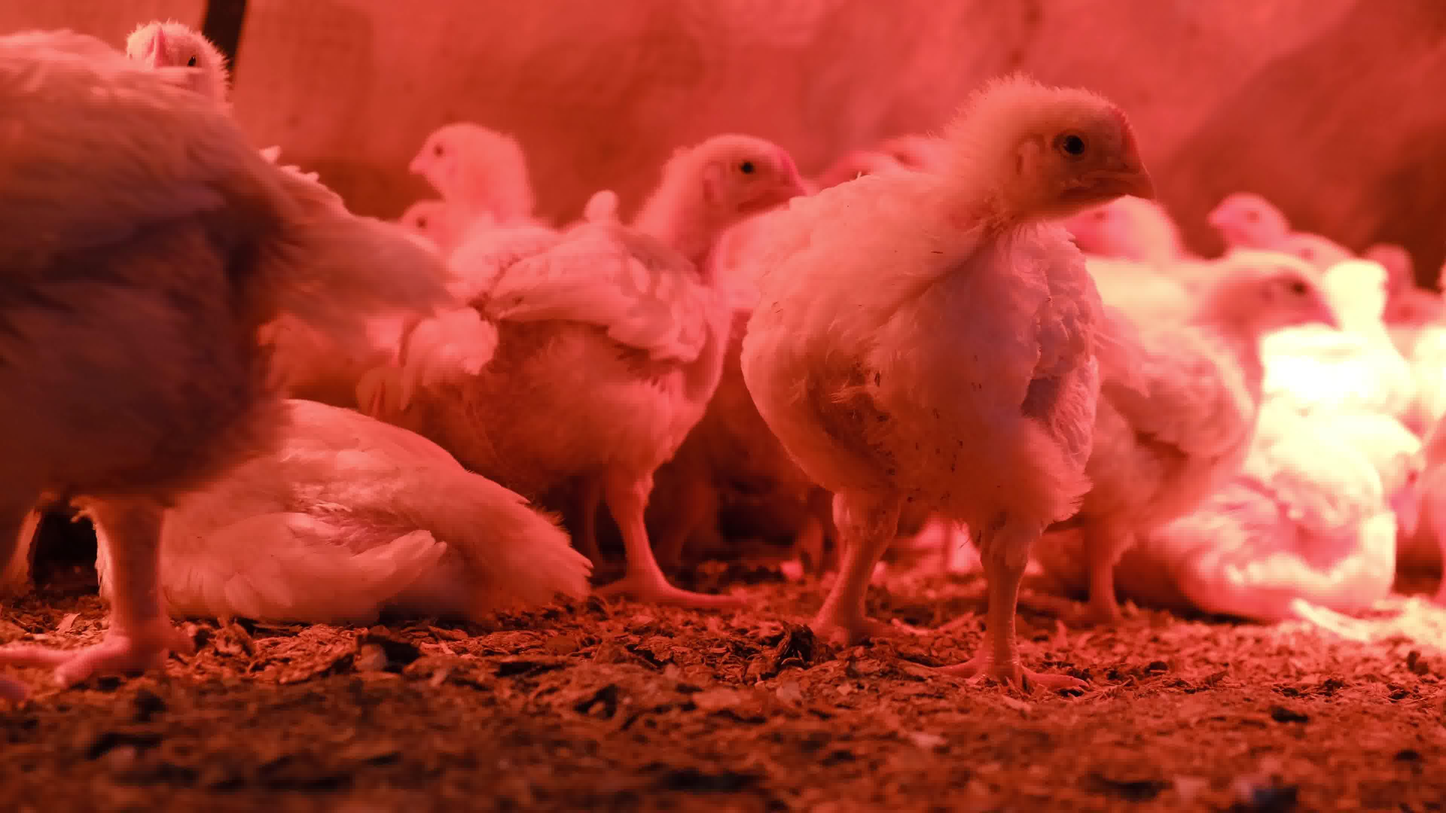AbNormal: (130, 341, 689, 661)
Normal: (732, 70, 1154, 709), (2, 2, 307, 698), (456, 128, 810, 619), (1092, 233, 1322, 615), (1120, 397, 1446, 627), (303, 90, 580, 269), (1197, 169, 1374, 265)
